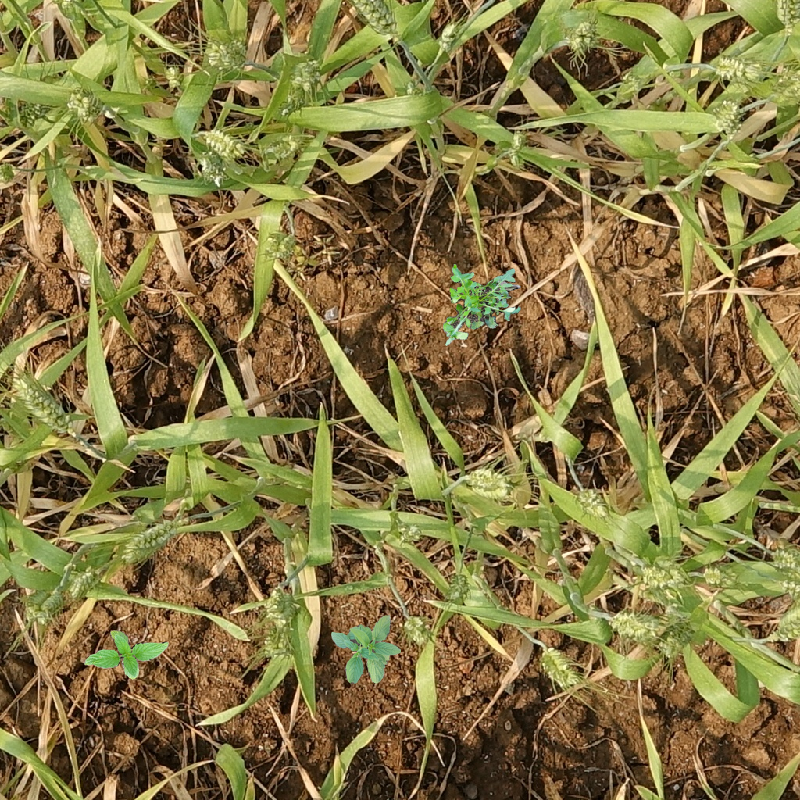spikelet: (8, 370, 75, 435), (117, 516, 181, 564), (344, 1, 401, 40), (638, 555, 687, 597), (537, 644, 581, 689), (203, 33, 248, 75), (459, 465, 512, 500), (197, 125, 247, 160), (656, 613, 694, 658), (608, 609, 659, 642), (263, 584, 302, 627), (57, 561, 98, 600), (285, 53, 324, 93), (709, 51, 759, 82), (258, 130, 300, 166), (707, 94, 743, 134), (64, 87, 102, 124), (564, 17, 600, 55), (16, 98, 52, 136), (769, 65, 799, 107), (574, 485, 611, 518), (444, 567, 476, 605), (260, 623, 293, 659), (265, 228, 299, 261), (435, 19, 465, 55), (768, 544, 799, 578), (773, 603, 800, 642), (402, 614, 433, 644), (701, 561, 733, 588), (390, 519, 422, 546), (774, 1, 799, 28), (162, 61, 184, 91)
weed: (443, 264, 521, 346), (331, 615, 401, 684), (84, 630, 169, 680)
